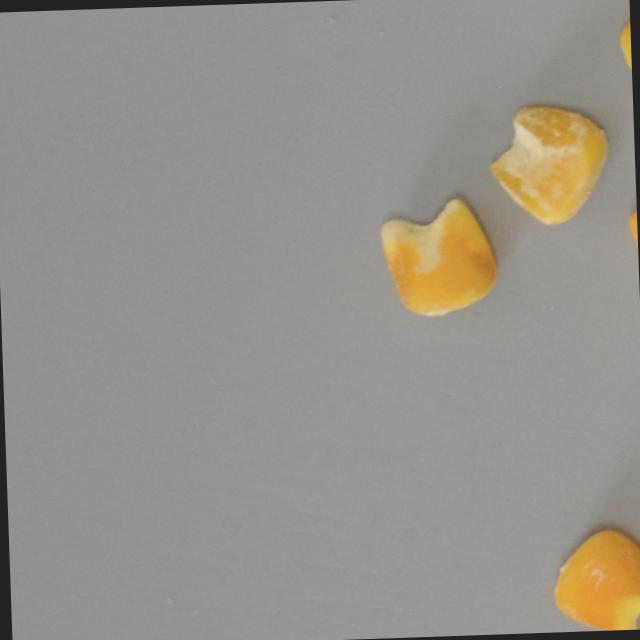pelicula: (487, 102, 611, 227), (379, 195, 497, 318), (549, 527, 640, 632), (616, 0, 633, 111)
